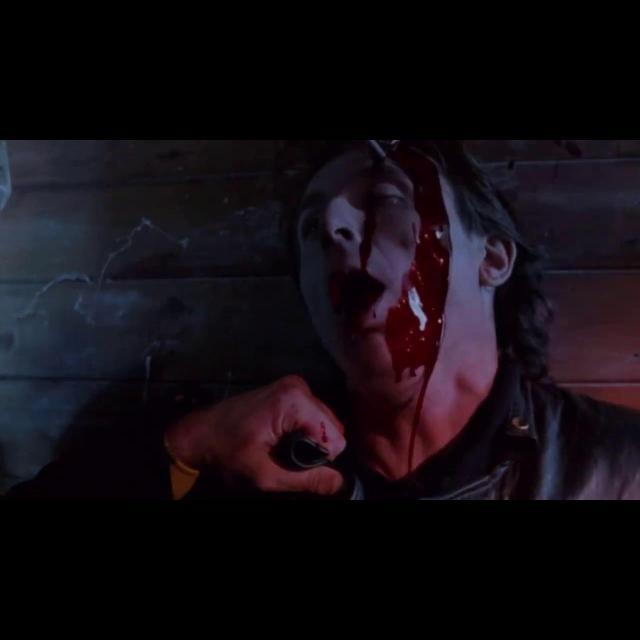blood: (386, 150, 452, 474), (360, 212, 374, 271), (320, 420, 329, 444)
